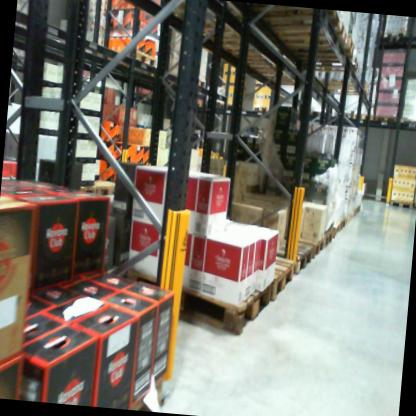pallet: (119, 257, 276, 341), (206, 246, 295, 318), (279, 25, 363, 66), (279, 45, 363, 75), (260, 237, 314, 281), (68, 168, 122, 210), (120, 373, 172, 409), (286, 232, 326, 267), (317, 75, 373, 100), (127, 45, 161, 74), (378, 23, 413, 51), (375, 109, 400, 127), (351, 111, 377, 127), (301, 106, 328, 121), (316, 224, 334, 246), (188, 71, 207, 90), (331, 108, 353, 122), (247, 105, 275, 116), (388, 197, 413, 209), (399, 114, 416, 126)
